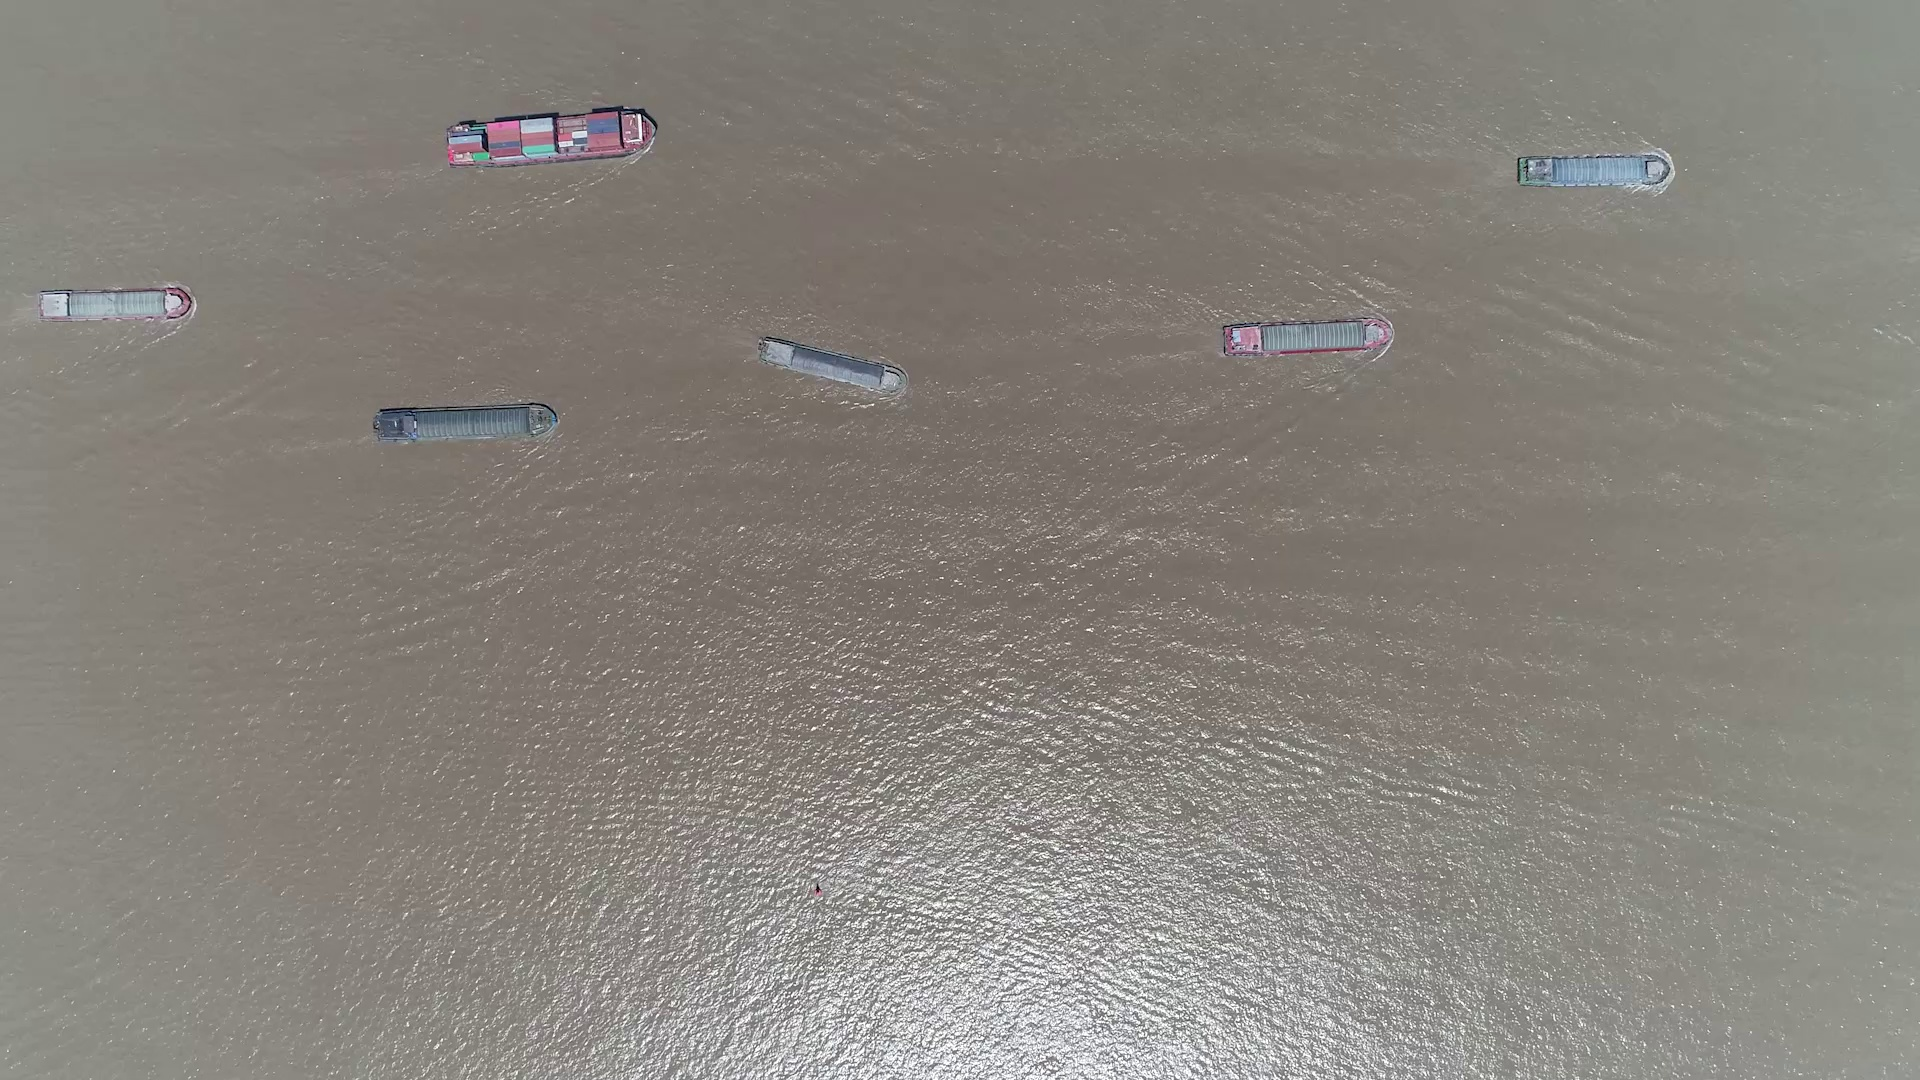ship: (442, 109, 654, 167), (756, 338, 906, 393), (375, 405, 556, 443), (1222, 319, 1393, 357), (36, 287, 191, 320), (1516, 156, 1669, 189)
